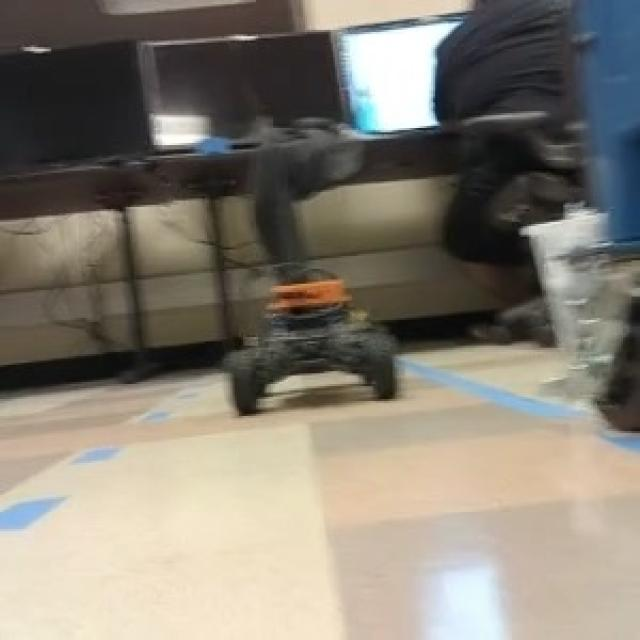obstacle: (217, 274, 411, 422)
